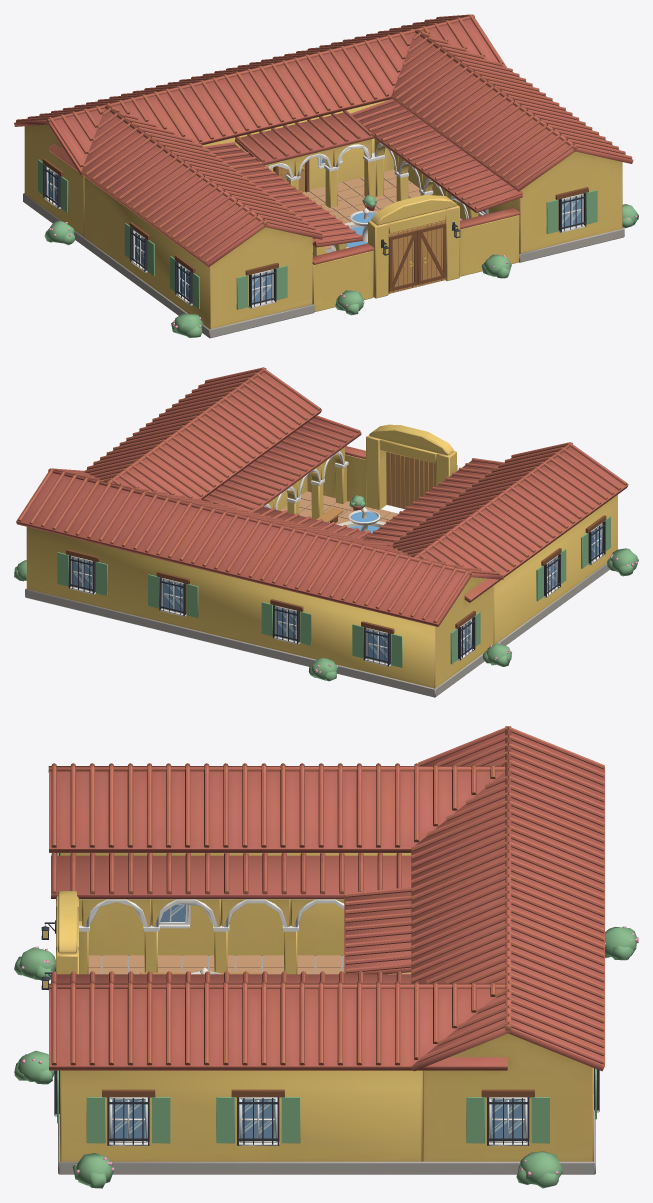
File: bldg_hacienda.glb
3 views of the same model, one above another, from view 1: azimuth 30°, elevation 25°; view 2: azimuth 150°, elevation 25°; view 3: azimuth 270°, elevation 25° (orthographic). The views are drawn at different scales.
Parts seen in each view (by area): view 1: hacienda_body, hacienda_details, hacienda_plants, hacienda_door_gate_l, hacienda_details_floor; view 2: hacienda_body, hacienda_details, hacienda_door_gate_l, hacienda_plants, hacienda_details_floor, hacienda_glints; view 3: hacienda_body, hacienda_details, hacienda_plants, hacienda_details_floor, hacienda_glints.
Part boxes in pixels (x1=…): hacienda_body: x1=14, y1=14, x2=633, y2=338; hacienda_details: x1=38, y1=143, x2=597, y2=309; hacienda_plants: x1=44, y1=195, x2=638, y2=337; hacienda_door_gate_l: x1=278, y1=163, x2=445, y2=293; hacienda_details_floor: x1=302, y1=169, x2=462, y2=256; hacienda_body: x1=16, y1=367, x2=628, y2=697; hacienda_details: x1=57, y1=451, x2=610, y2=667; hacienda_door_gate_l: x1=386, y1=452, x2=436, y2=508; hacienda_plants: x1=14, y1=495, x2=638, y2=681; hacienda_details_floor: x1=280, y1=491, x2=398, y2=524; hacienda_glints: x1=73, y1=528, x2=600, y2=657; hacienda_body: x1=48, y1=726, x2=604, y2=1174; hacienda_details: x1=41, y1=853, x2=599, y2=1145; hacienda_plants: x1=14, y1=926, x2=638, y2=1188; hacienda_details_floor: x1=88, y1=955, x2=411, y2=974; hacienda_glints: x1=113, y1=904, x2=523, y2=1133.
Size of the model in its own units: 20.41 by 4.49 by 16.38.
Materials: 19 (1 with a texture image).
